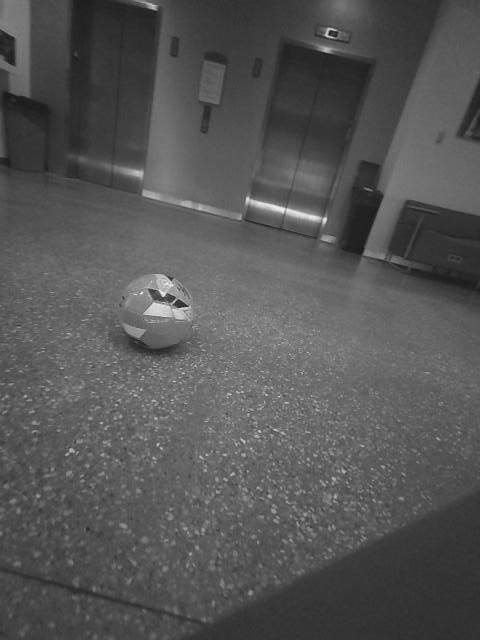ball: (109, 267, 201, 356)
